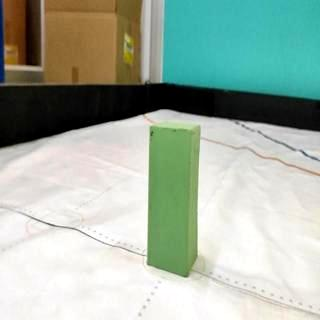greenbox: (146, 121, 202, 280)
